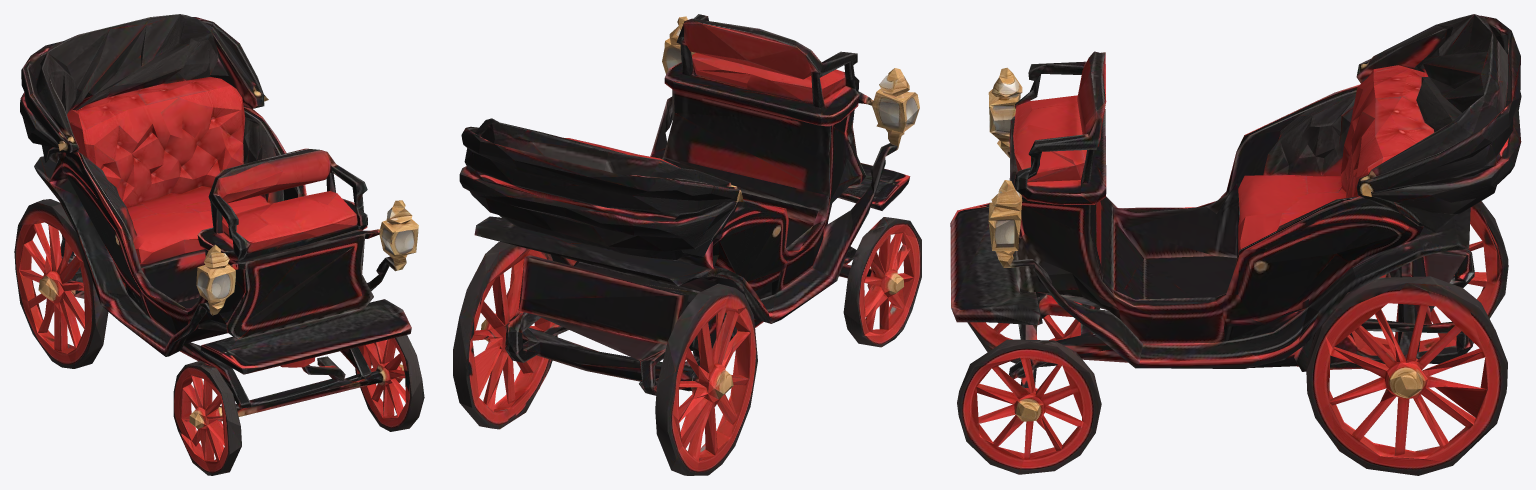
Rendered from carriage.glb.
3 renders of one model, left to right at view 1: azimuth 30°, elevation 25°; view 2: azimuth 150°, elevation 25°; view 3: azimuth 270°, elevation 25°, orthographic. The views are drawn at different scales.
Size of the model in its own units: 1.63 by 2.1 by 2.97.
1 material, 1 textured.
